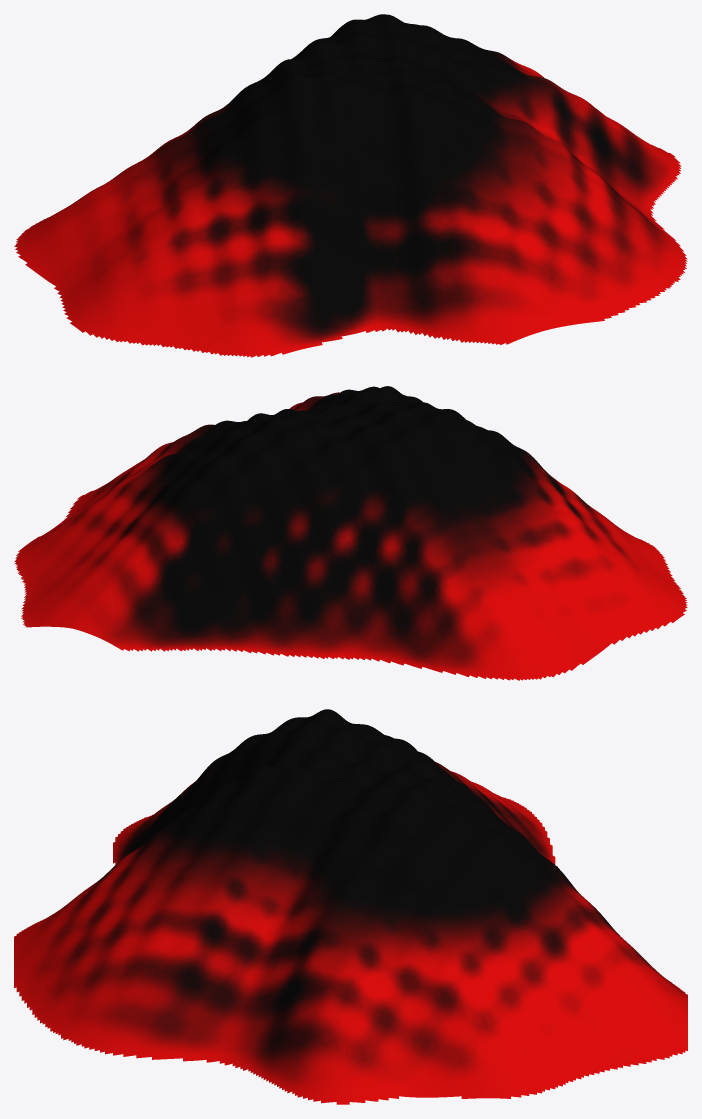
File: SM_GraniteDomeFar_00.fbx
3 views of the same model, one above another, from view 1: azimuth 30°, elevation 25°; view 2: azimuth 150°, elevation 25°; view 3: azimuth 270°, elevation 25° (orthographic). The views are drawn at different scales.
Visible parts, largest first — view 1: SM_GraniteDomeFar_00; view 2: SM_GraniteDomeFar_00; view 3: SM_GraniteDomeFar_00.
Part boxes in pixels (left/top/right/bottom): SM_GraniteDomeFar_00: left=14, top=14, right=687, bottom=357; SM_GraniteDomeFar_00: left=14, top=386, right=687, bottom=680; SM_GraniteDomeFar_00: left=14, top=709, right=687, bottom=1104.
Size of the model in its own units: 41919 by 36301 by 11437.
